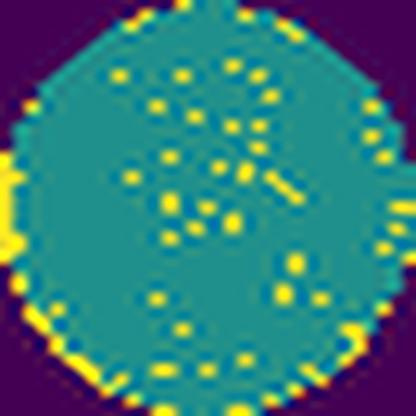Edge-Loc: (20, 297, 120, 397), (0, 148, 27, 261)
